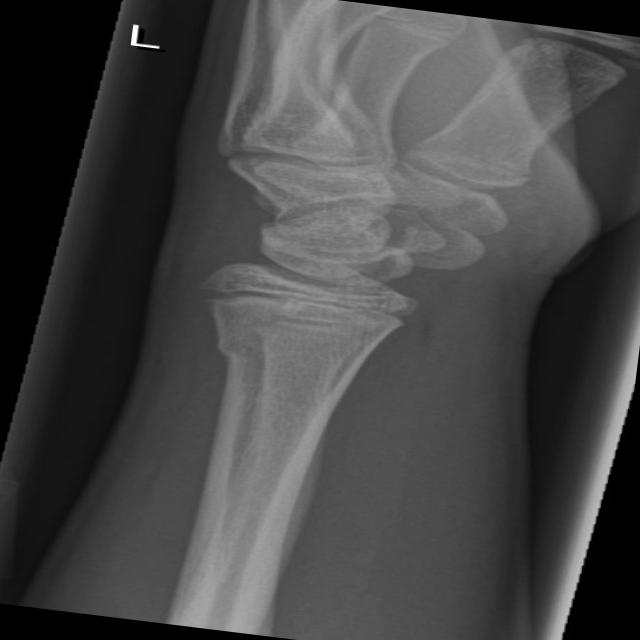fracture: (179, 264, 452, 352)
